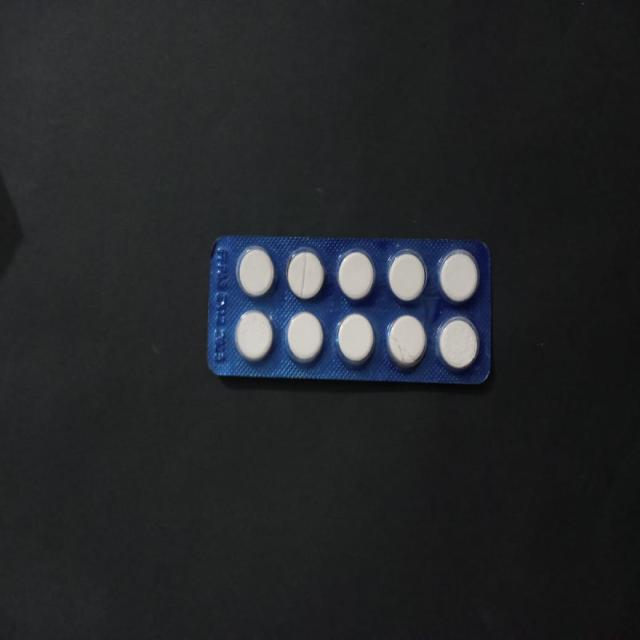defect: (384, 312, 430, 372), (284, 245, 327, 304)
